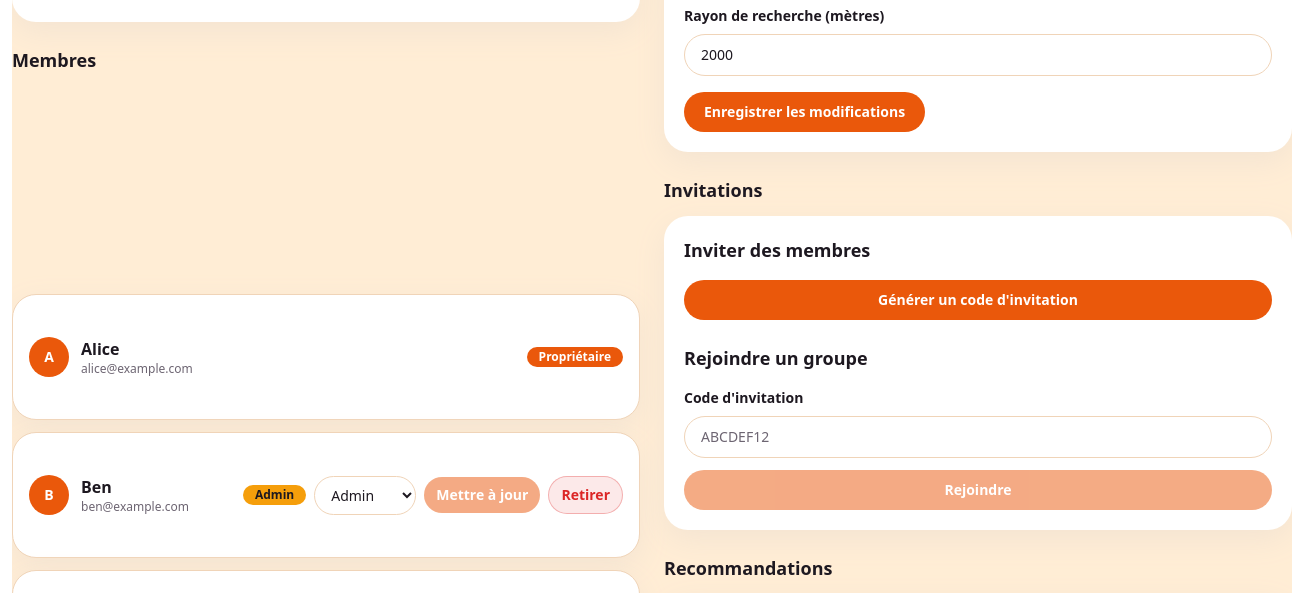
Test: GroupDetailPage › shows create invite error for auth (401)
(page scrolled)
Check: the heading "Invitations" is shown, box [664, 178, 762, 202]
What coordinates should you click on to do the following:
click the button "Générer un code d'invitation"
I would click on:
 (978, 300)
Its box is [684, 280, 1272, 320].
(page scrolled)
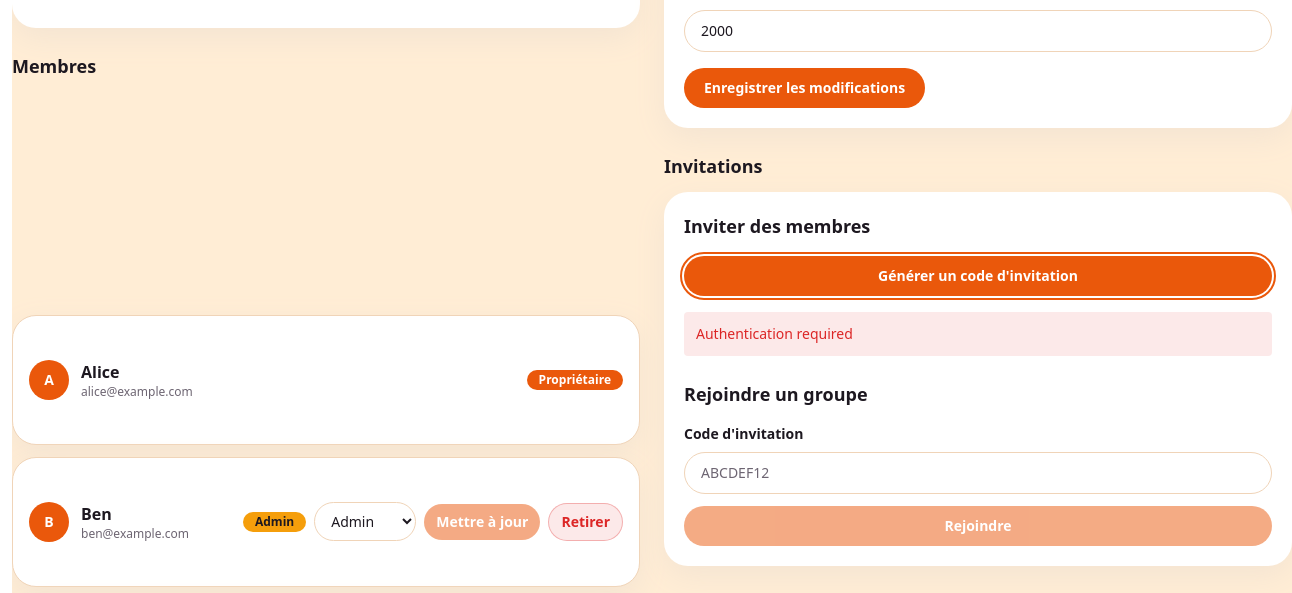
Check: the message reads "Authentication required", box [696, 324, 853, 343]
